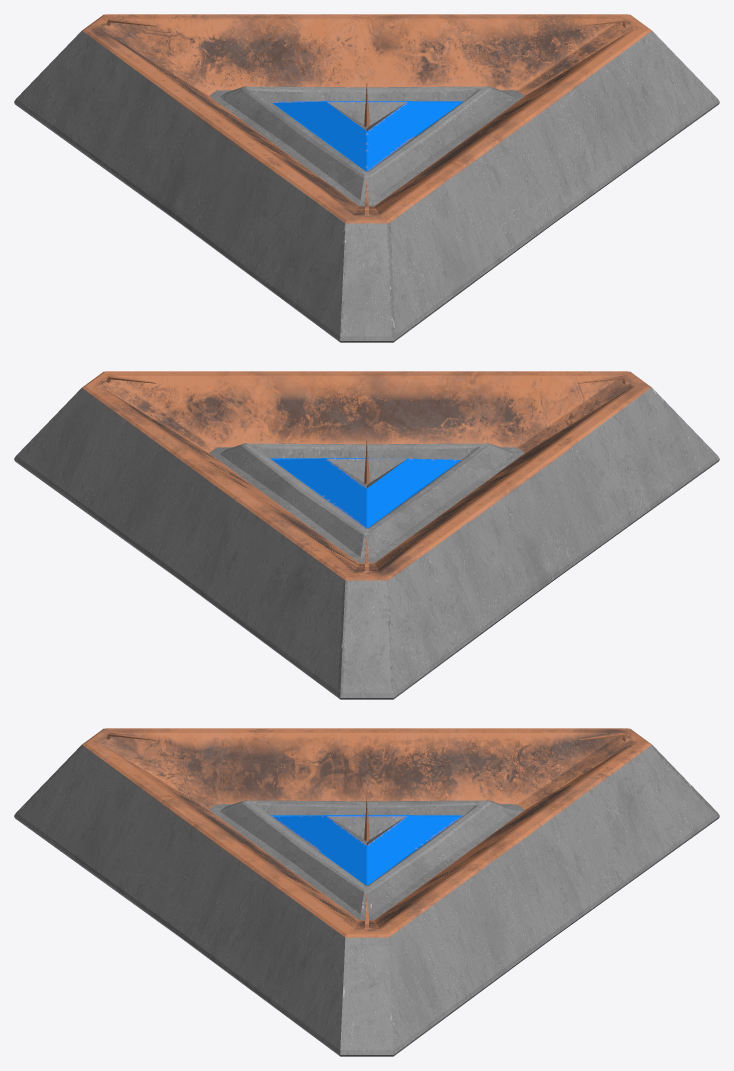
The model's file is PuzzlePieceTriangle.fbx.
The picture shows the model from 3 angles, top to bottom: view 1: azimuth 30°, elevation 25°; view 2: azimuth 150°, elevation 25°; view 3: azimuth 270°, elevation 25°; orthographic projection.
Visible parts, largest first — view 1: Gengon001; view 2: Gengon001; view 3: Gengon001.
Boxes of the visible parts, x1,y1,x2,y2 form: Gengon001: (14, 14, 719, 342); Gengon001: (14, 371, 719, 699); Gengon001: (14, 728, 719, 1056).
Size of the model in its own units: 96.9 by 17.6 by 112.
Materials: 1 (1 with a texture image).
